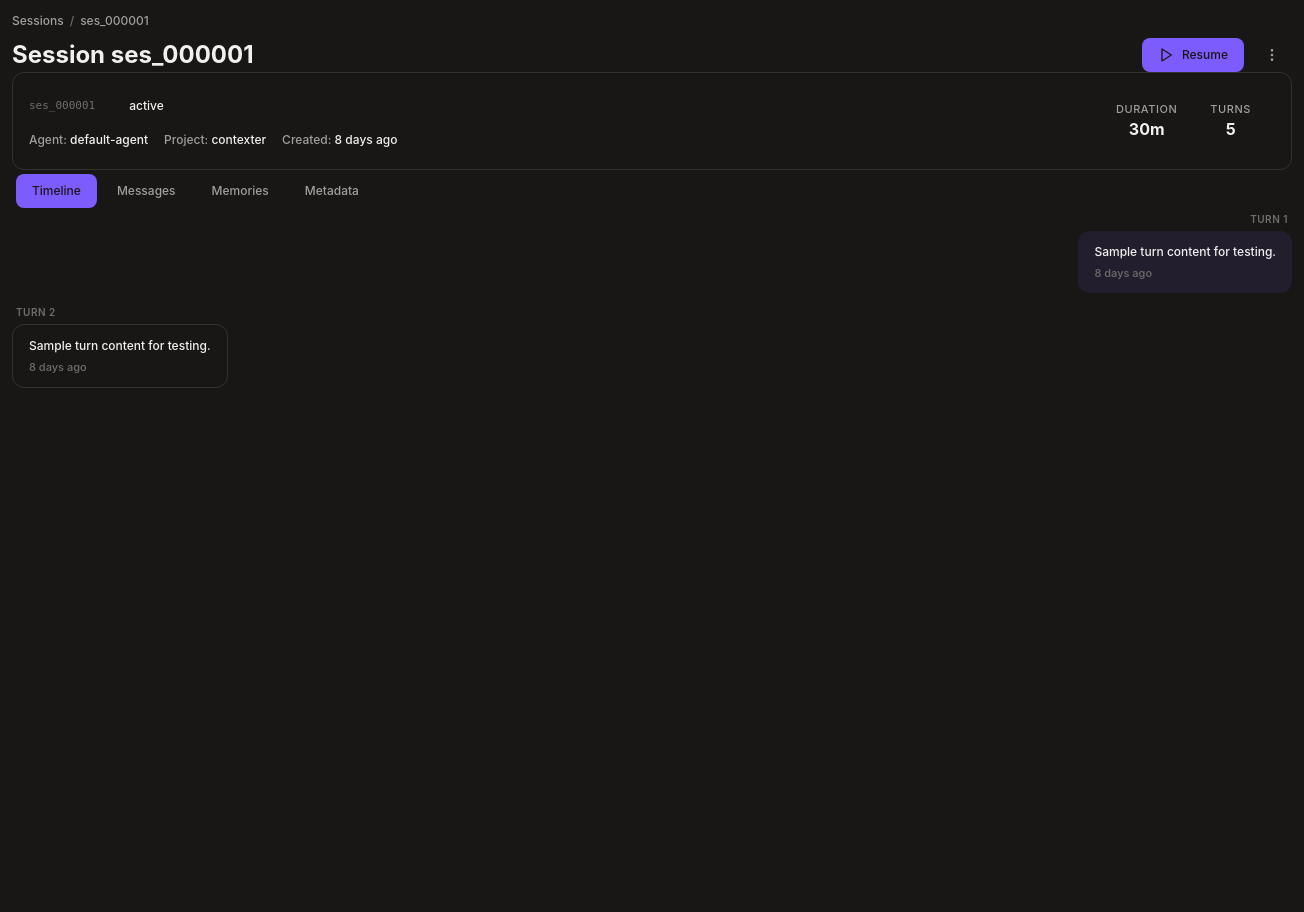
SessionDetailPage › switches to Metadata tab and shows key-value table
Expected: the heading "Session ses_000001" is shown, [12,39,254,71]
Click the tab "Metadata" at (332, 191), box [289,174,375,208]
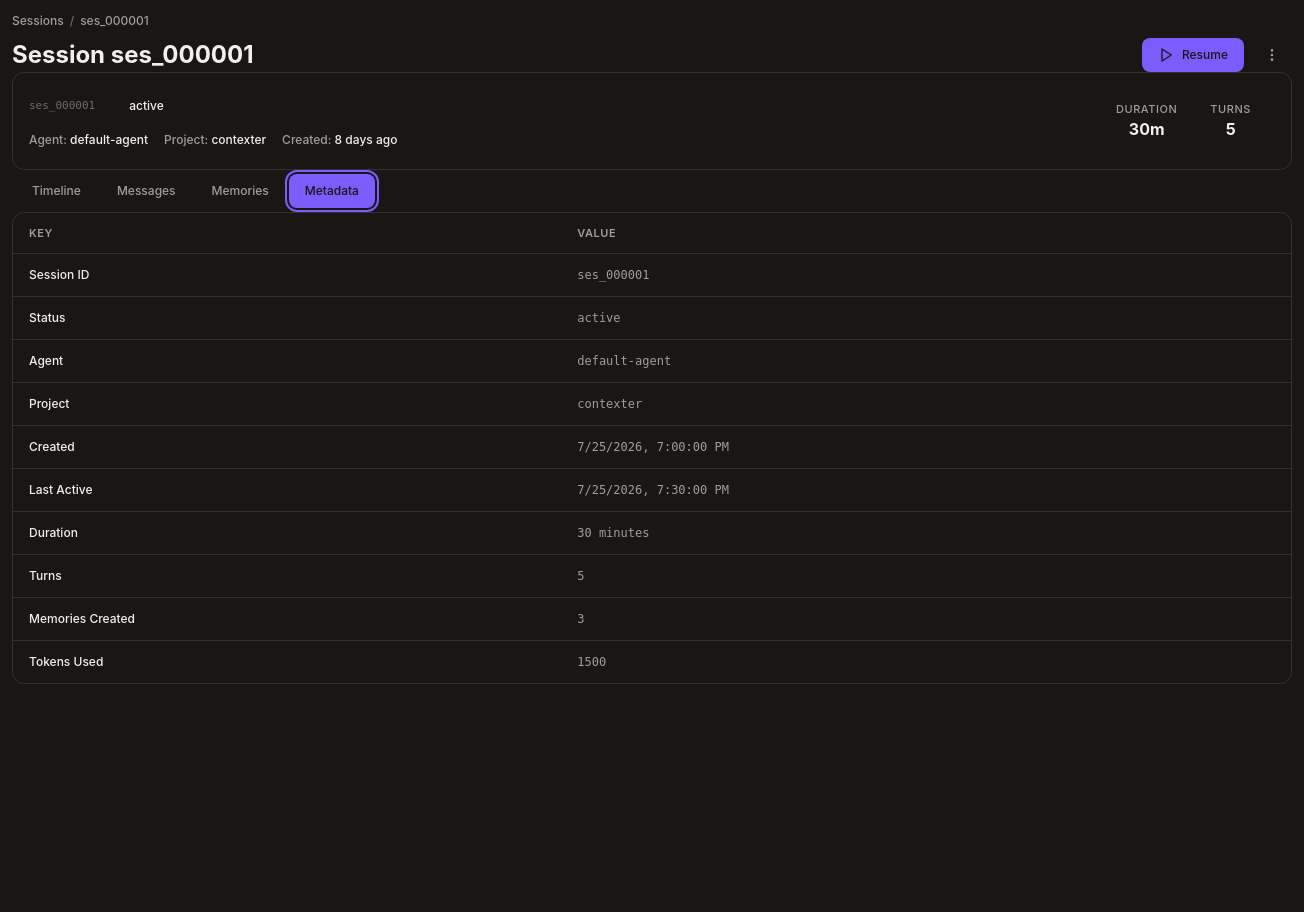
Expected: the text "Session ID" is shown, [13,254,561,296]
Expected: the text "Status" is shown, [13,296,561,340]
Expected: the text "Agent" is shown, [13,340,561,382]
